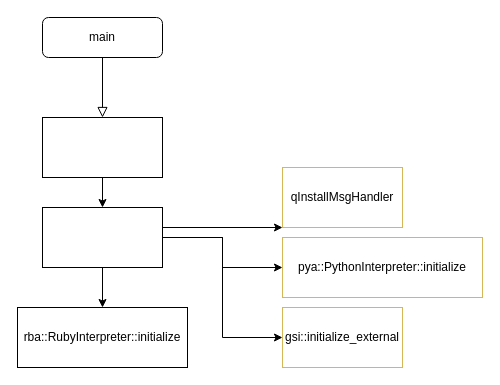
Some shapes in this 500 by 385 pixel diagram are drawn without their labels. Here are the shapes that lost their labels. From the top down, the box of each, then its label:
(42, 116, 162, 178): klayout_main
(42, 206, 162, 268): klayout_main_cont
